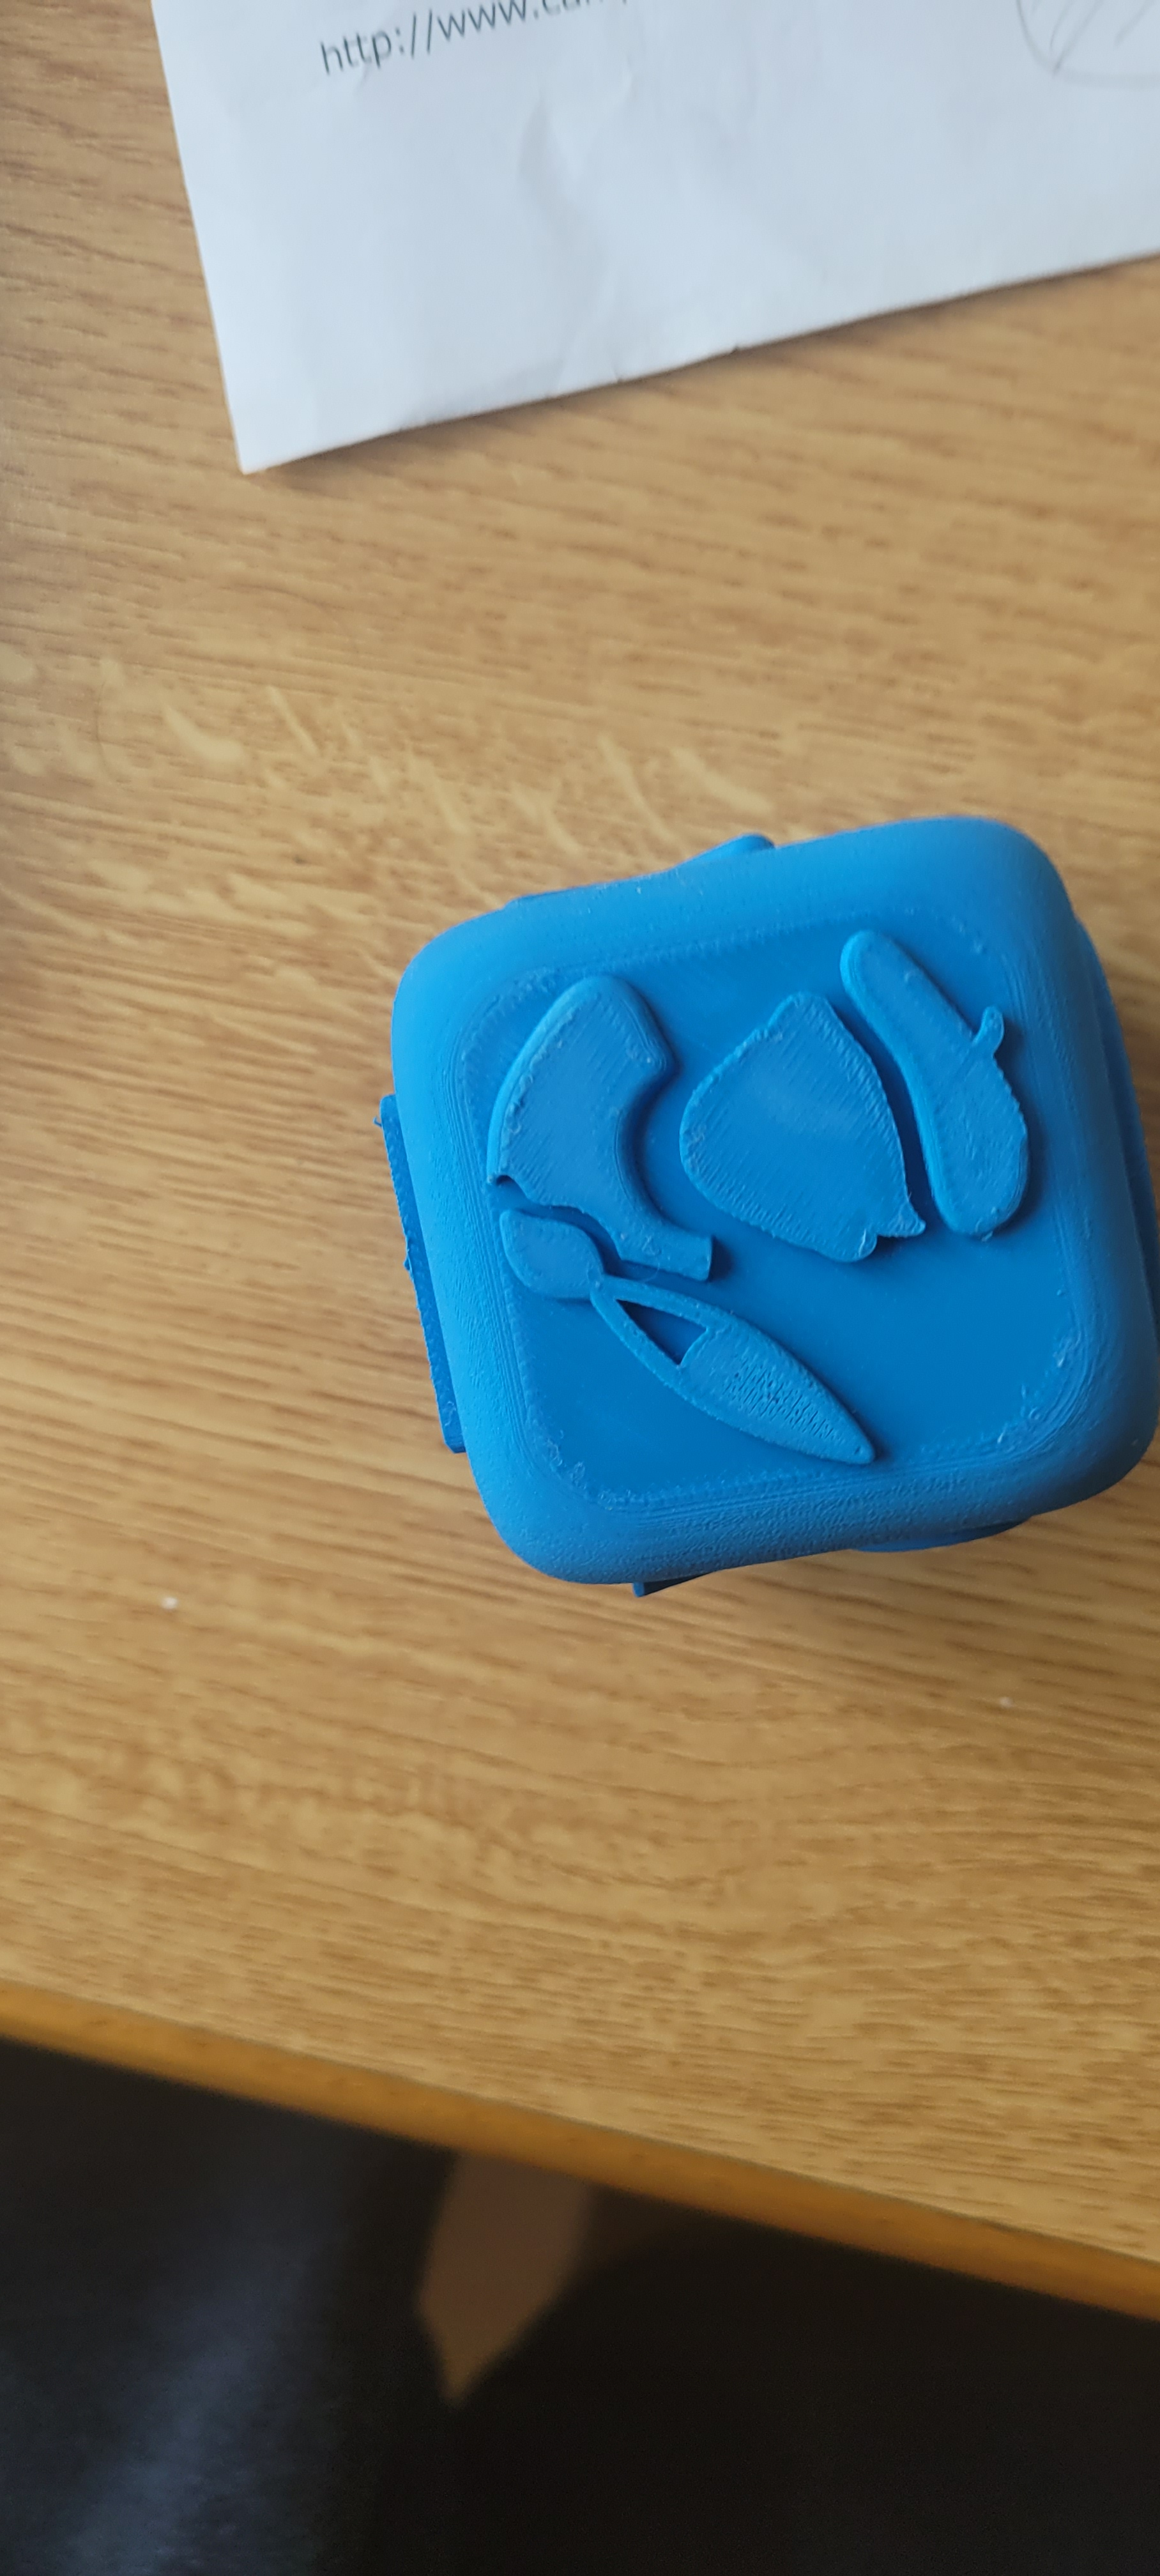Artist_Info: (360, 900, 1160, 1565)
